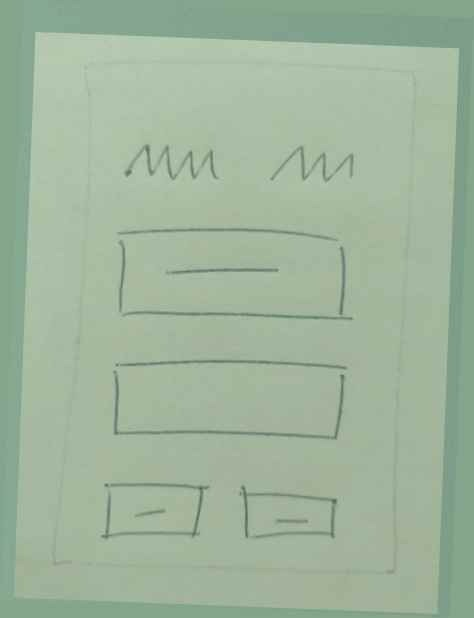button: (100, 219, 372, 340), (230, 478, 347, 551), (93, 475, 212, 546)
switch: (260, 132, 365, 196)
text: (117, 135, 230, 194)
text_input: (97, 348, 360, 456)
